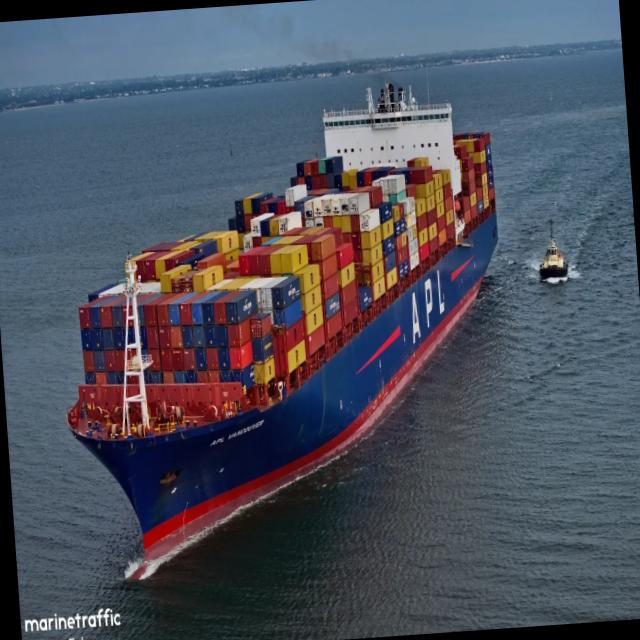Cargo: (67, 83, 497, 559)
Tug: (539, 220, 567, 279)
